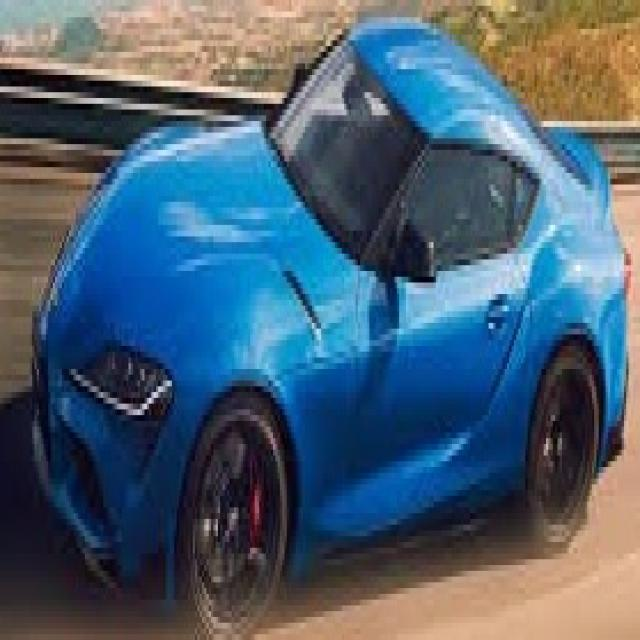blue: (28, 6, 638, 640)
